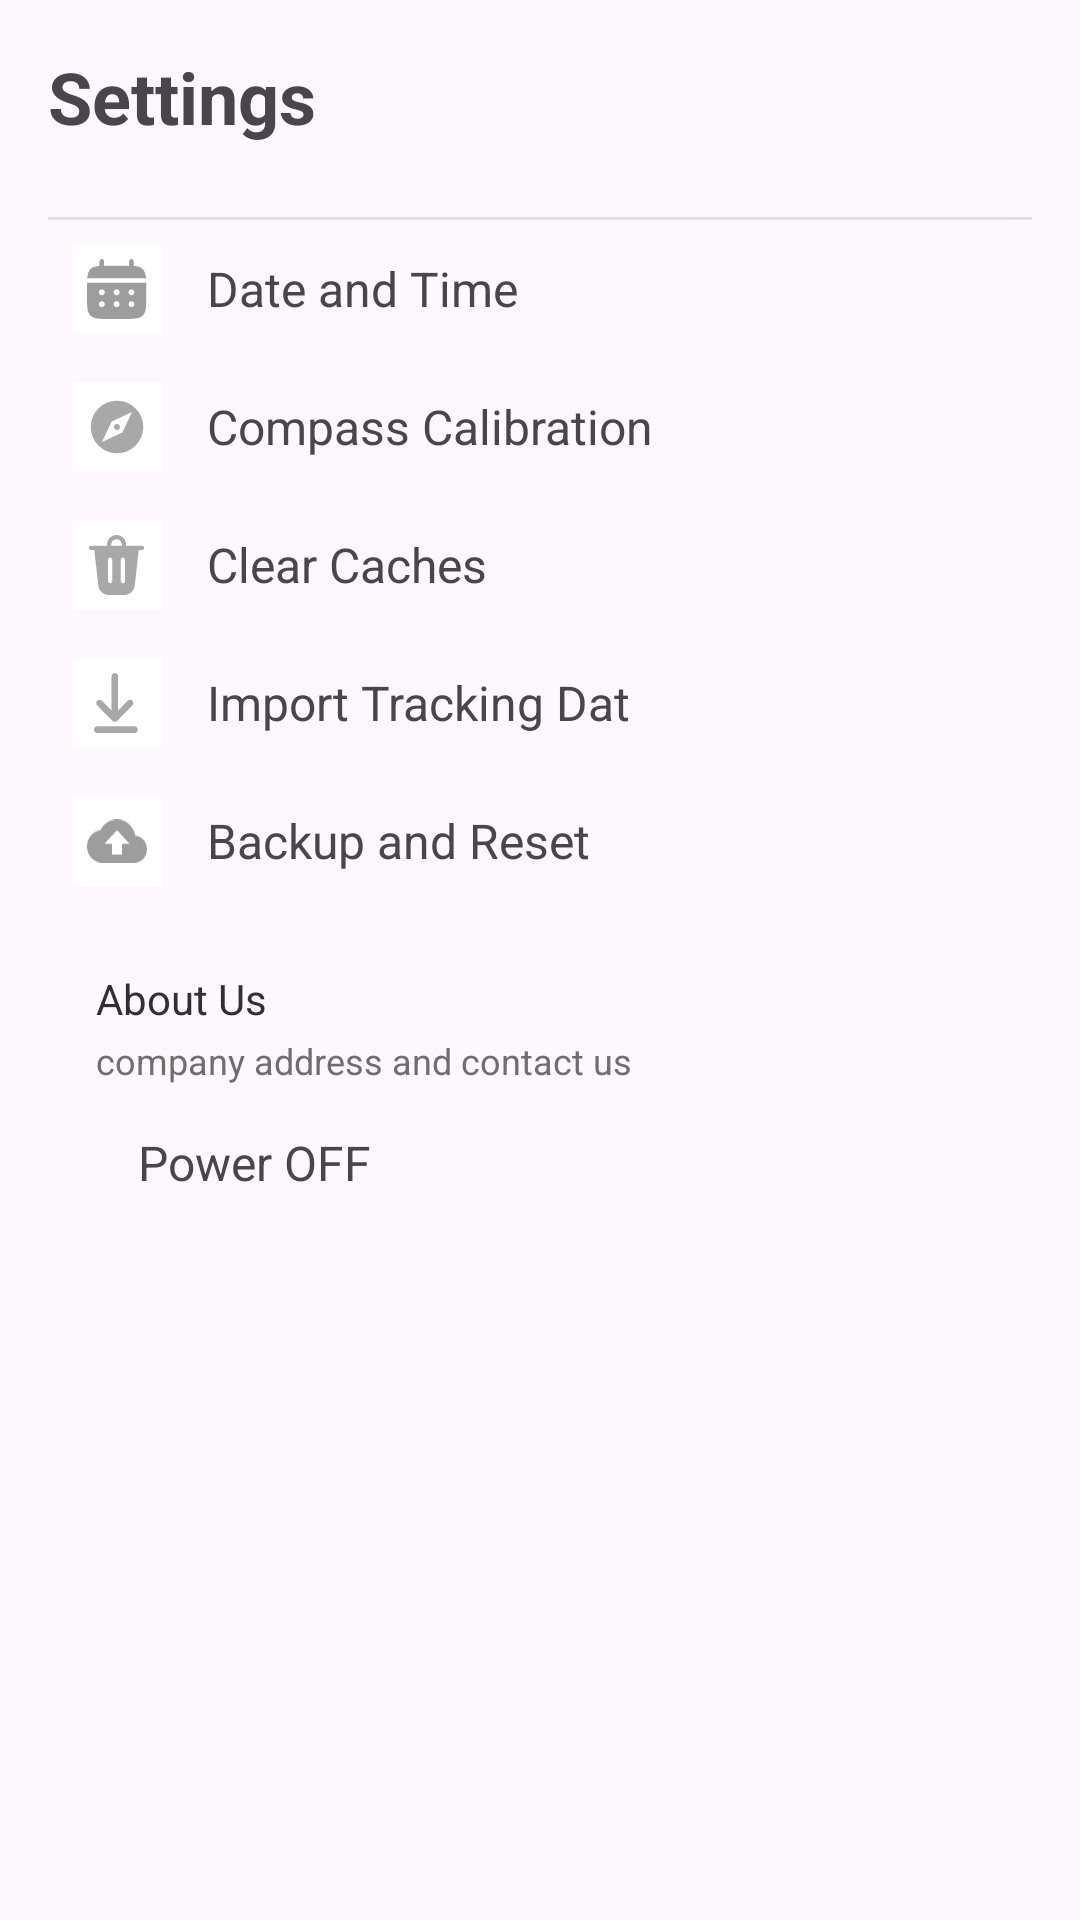

Named icons in this screenshot (1080px×1920px) and their bounding boxes, (x1, y1, x2, y2):
calendericon: (87, 259, 147, 319)
delete: (89, 535, 144, 595)
download: (94, 673, 138, 733)
